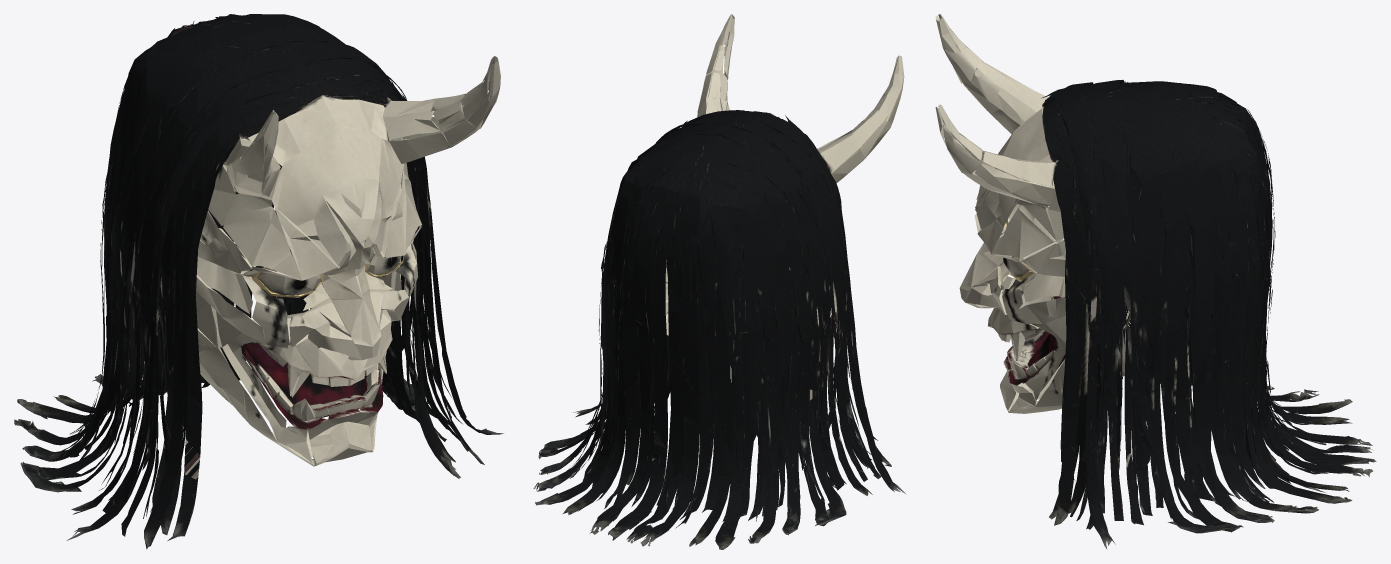
File: hannya_mask.glb
The picture shows the model from 3 angles, left to right: view 1: azimuth 30°, elevation 25°; view 2: azimuth 150°, elevation 25°; view 3: azimuth 270°, elevation 25°; orthographic projection. The views are drawn at different scales.
Size of the model in its own units: 1.81 by 1.9 by 1.88.
1 material, 1 textured.
